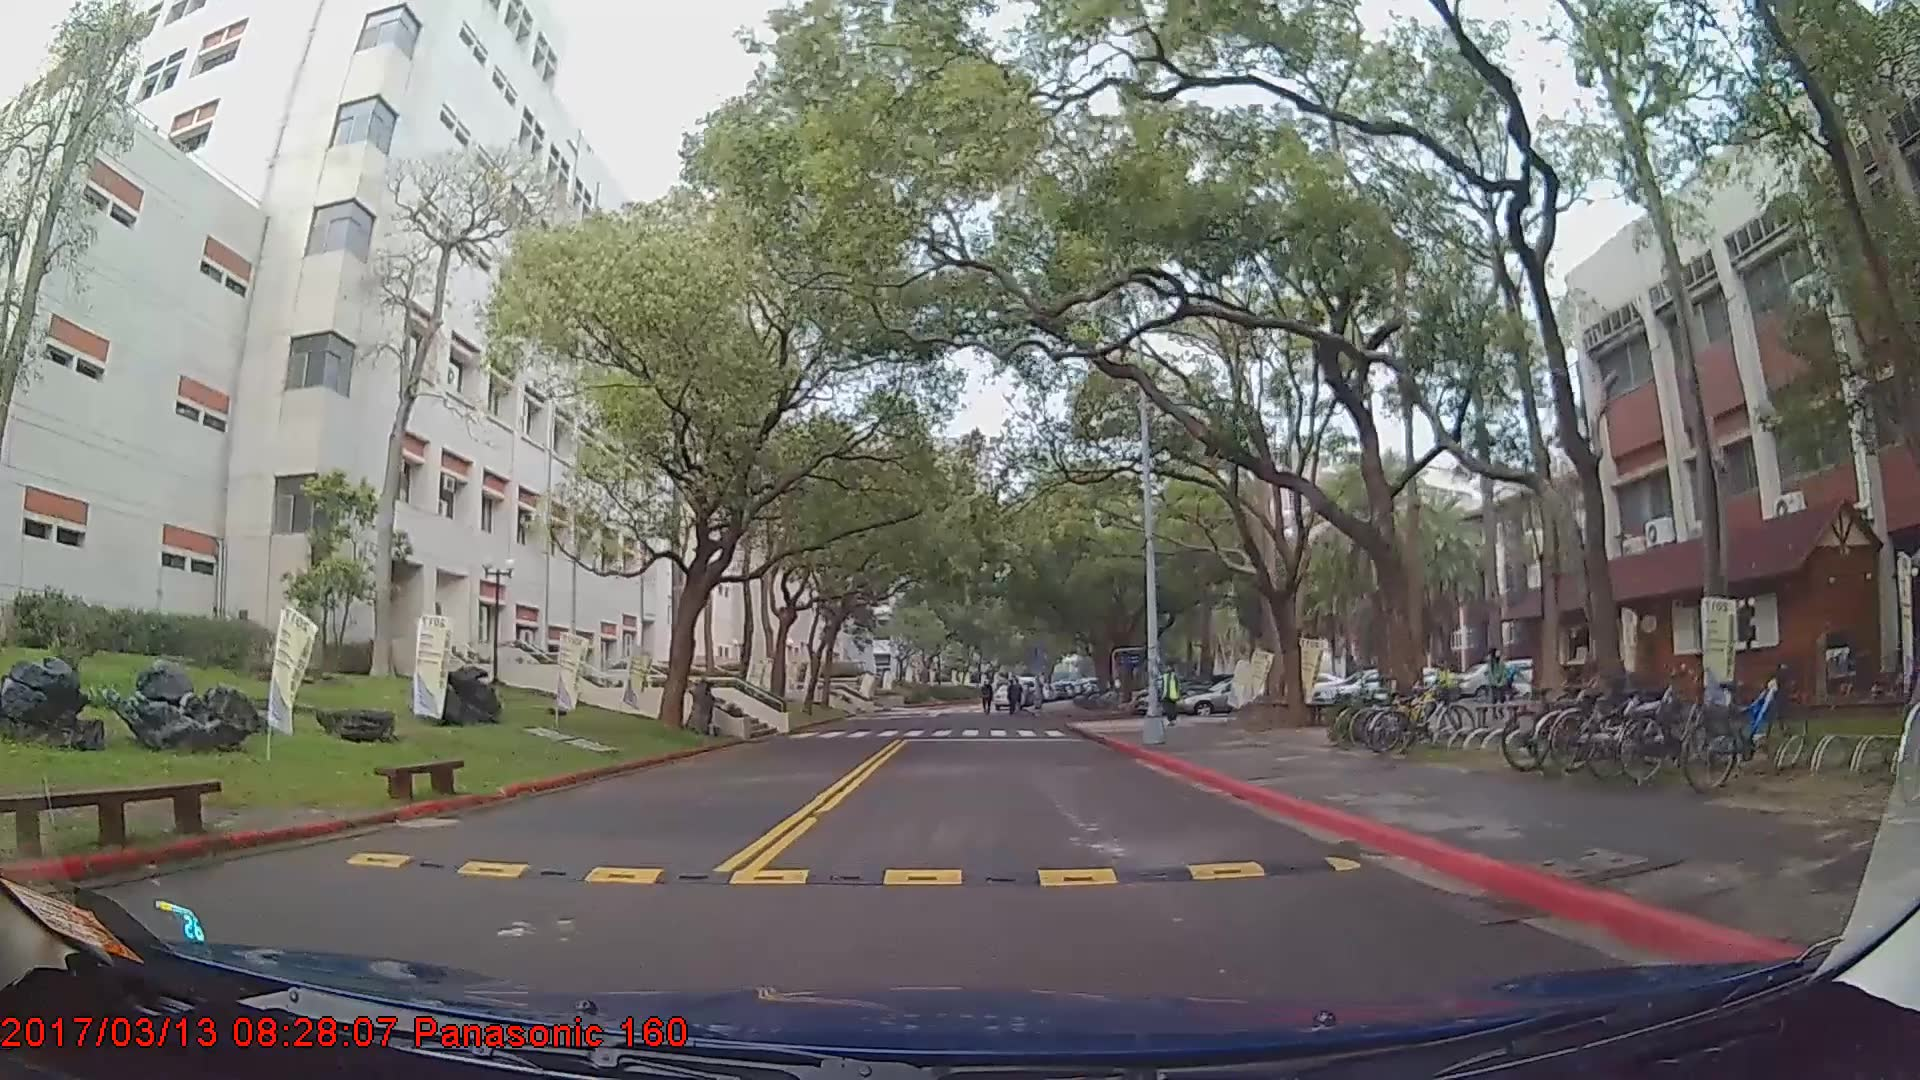vehicle: (1175, 676, 1278, 716)
